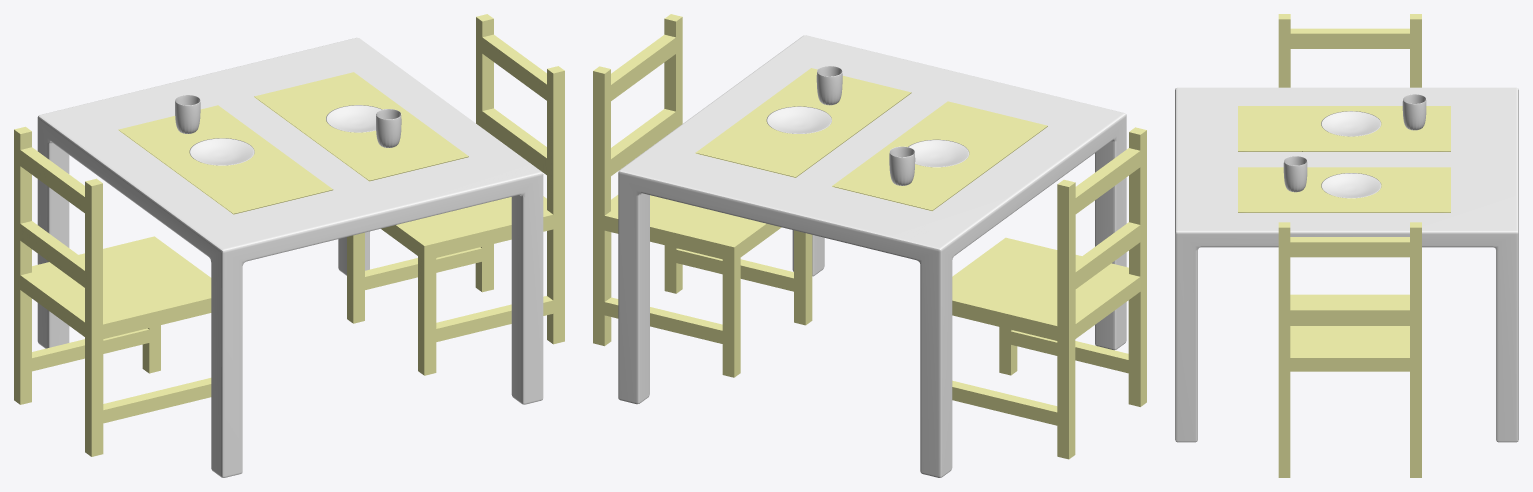
File: dinning_table.fbx
3 renders of one model, left to right at view 1: azimuth 30°, elevation 25°; view 2: azimuth 150°, elevation 25°; view 3: azimuth 270°, elevation 25°, orthographic. The views are drawn at different scales.
Visible parts, largest first — view 1: table, chair2, chair1, table_cloth1, table_cloth2, plate1, plate2, cup1, cup2; view 2: table, chair2, chair1, table_cloth1, table_cloth2, plate2, plate1, cup2, cup1; view 3: table, chair1, table_cloth1, table_cloth2, chair2, plate1, plate2, cup1, cup2.
Part boxes in pixels (x1,y1,x2,y2): table: [37, 37, 543, 477]; chair2: [14, 126, 211, 456]; chair1: [347, 14, 564, 375]; table_cloth1: [118, 105, 333, 214]; table_cloth2: [254, 72, 468, 181]; plate1: [189, 138, 254, 165]; plate2: [326, 105, 381, 132]; cup1: [175, 95, 200, 133]; cup2: [376, 109, 401, 147]; table: [618, 35, 1126, 477]; chair2: [952, 127, 1146, 459]; chair1: [593, 14, 812, 377]; table_cloth1: [832, 101, 1047, 211]; table_cloth2: [695, 68, 911, 177]; plate2: [766, 106, 831, 133]; plate1: [908, 139, 969, 167]; cup2: [816, 66, 842, 105]; cup1: [889, 146, 915, 185]; table: [1175, 87, 1518, 442]; chair1: [1278, 222, 1421, 477]; table_cloth1: [1238, 106, 1450, 151]; table_cloth2: [1238, 167, 1450, 212]; chair2: [1278, 14, 1421, 87]; plate1: [1321, 111, 1381, 136]; plate2: [1321, 173, 1381, 198]; cup1: [1402, 94, 1426, 130]; cup2: [1283, 156, 1307, 192].
Size of the model in its own units: 1.76 by 0.9606 by 1.2.
